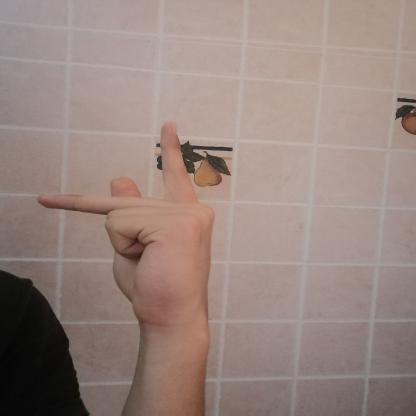DHAA: (22, 111, 230, 336)
